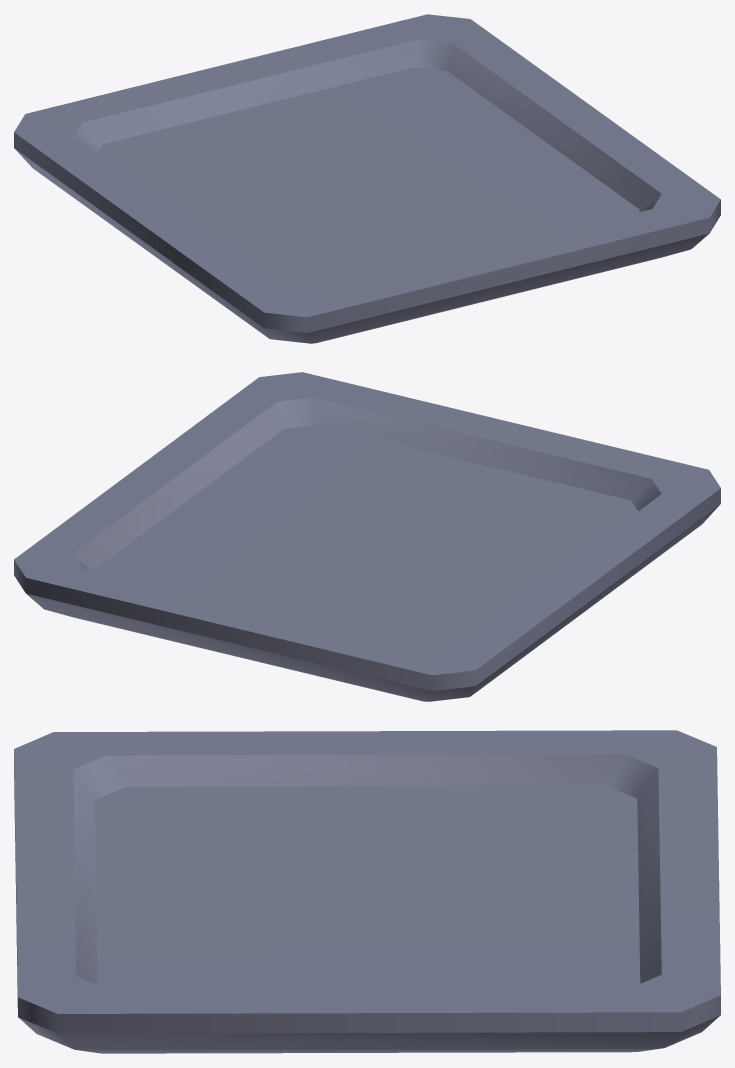
Rendered from Plate_3_A.fbx.
The picture shows the model from 3 angles, top to bottom: view 1: azimuth 30°, elevation 25°; view 2: azimuth 150°, elevation 25°; view 3: azimuth 270°, elevation 25°; orthographic projection. The views are drawn at different scales.
Visible parts, largest first — view 1: Plate_3_A; view 2: Plate_3_A; view 3: Plate_3_A.
Part boxes in pixels (x1=…): Plate_3_A: x1=14, y1=14, x2=720, y2=343; Plate_3_A: x1=14, y1=372, x2=720, y2=701; Plate_3_A: x1=14, y1=730, x2=720, y2=1053.
Bounding box in the file's own units: 25.12 × 2.47 × 26.46.
